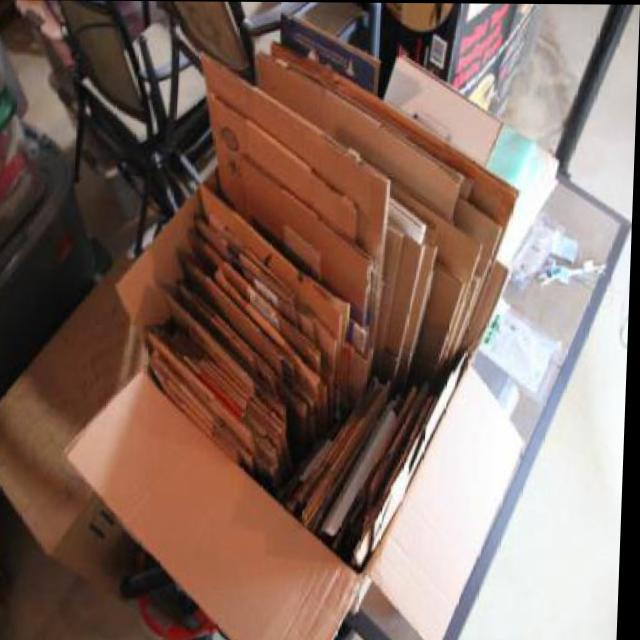box: (43, 34, 584, 640)
